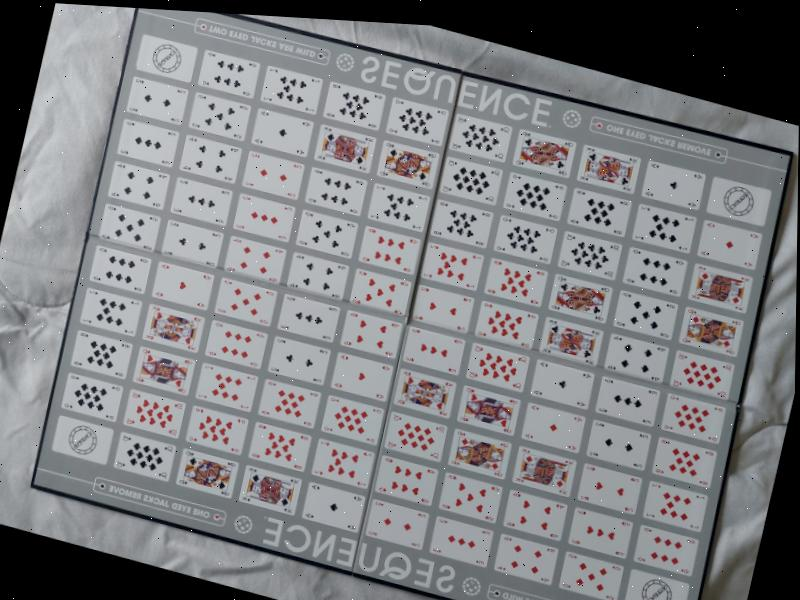Board: (23, 8, 799, 600)
